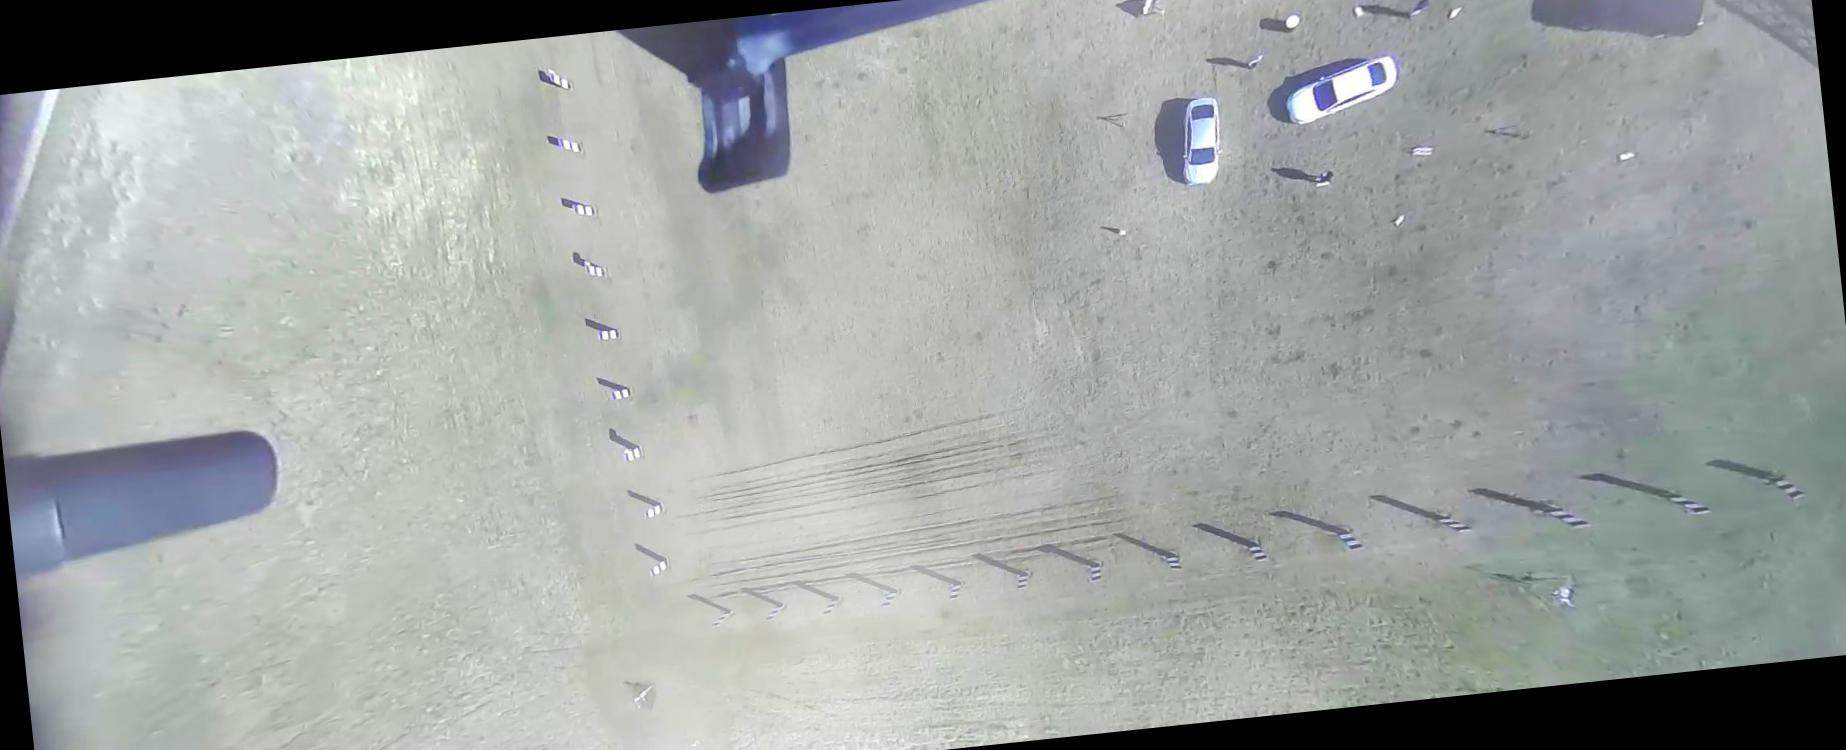vehicle: (1282, 53, 1402, 126), (1572, 0, 1709, 49), (1176, 95, 1228, 186)
